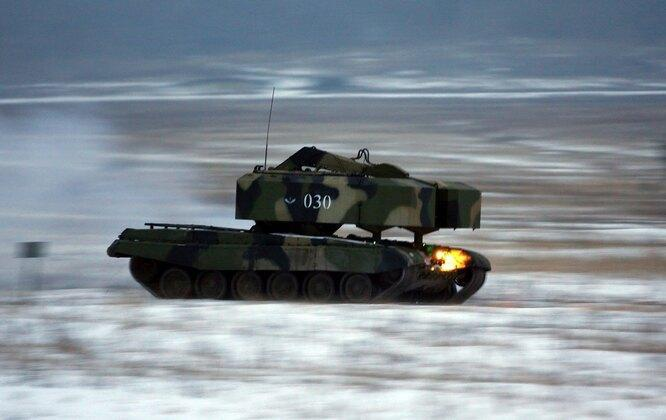rszo: (113, 124, 513, 328)
